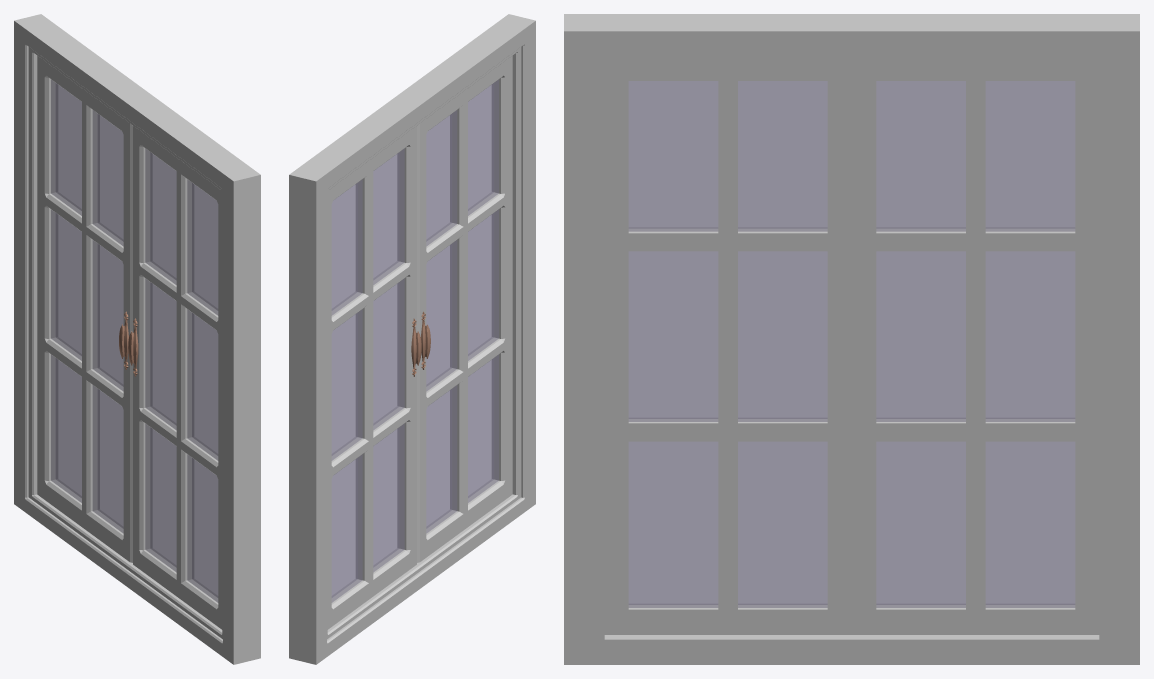
The model's file is Window03_open.FBX.
3 renders of one model, left to right at view 1: azimuth 30°, elevation 25°; view 2: azimuth 150°, elevation 25°; view 3: azimuth 270°, elevation 25°, orthographic. The views are drawn at different scales.
Visible parts, largest first — view 1: Window03_open; view 2: Window03_open; view 3: Window03_open.
Part boxes in pixels (box(x1,y1,x2,y2)): Window03_open: box(14, 14, 260, 664); Window03_open: box(289, 14, 535, 664); Window03_open: box(564, 14, 1139, 664).
Size of the model in its own units: 10 by 140 by 170.
